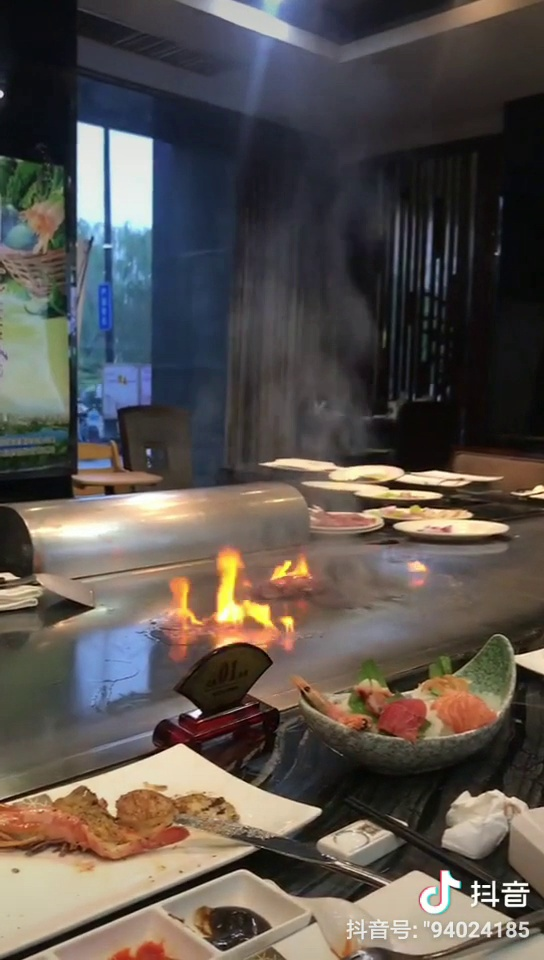fire: (166, 547, 275, 630)
